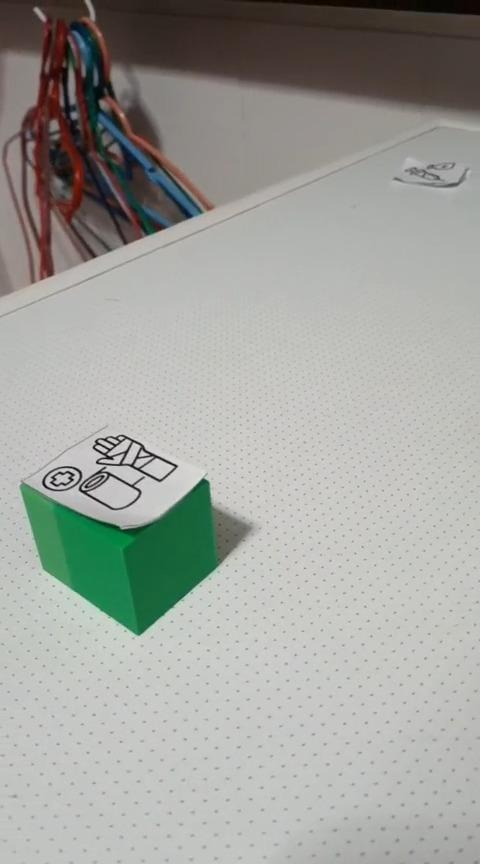Bandages: (18, 425, 219, 635)
